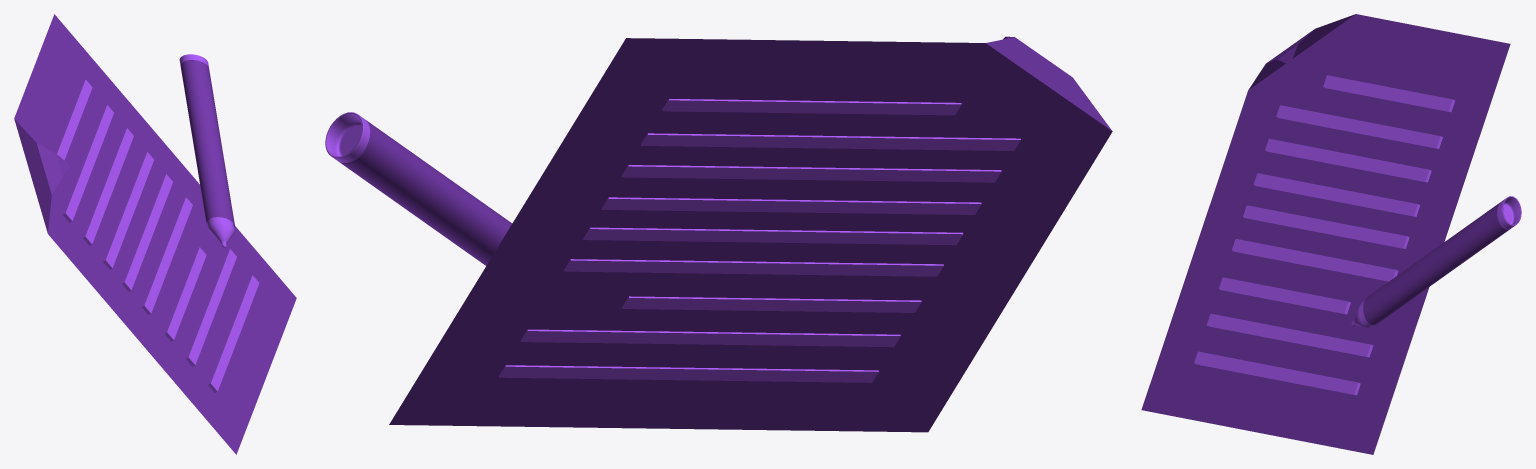
File: Notes.gltf
3 views of the same model, side by side, from view 1: azimuth 30°, elevation 25°; view 2: azimuth 150°, elevation 25°; view 3: azimuth 270°, elevation 25° (orthographic). The views are drawn at different scales.
Visible parts, largest first — view 1: Plane.036, Plane.042, Cylinder.019; view 2: Plane.036, Plane.042, Cylinder.019; view 3: Plane.036, Plane.042, Cylinder.019.
Boxes of the visible parts, bbox=[...] form: Plane.036: bbox=[14, 14, 296, 454]; Plane.042: bbox=[55, 79, 259, 392]; Cylinder.019: bbox=[179, 54, 234, 247]; Plane.036: bbox=[389, 36, 1112, 432]; Plane.042: bbox=[499, 99, 1020, 382]; Cylinder.019: bbox=[325, 112, 512, 265]; Plane.036: bbox=[1141, 14, 1510, 454]; Plane.042: bbox=[1194, 75, 1454, 395]; Cylinder.019: bbox=[1351, 196, 1521, 327].
Bounding box in the file's own units: 13.96 × 14.1 × 13.58.
